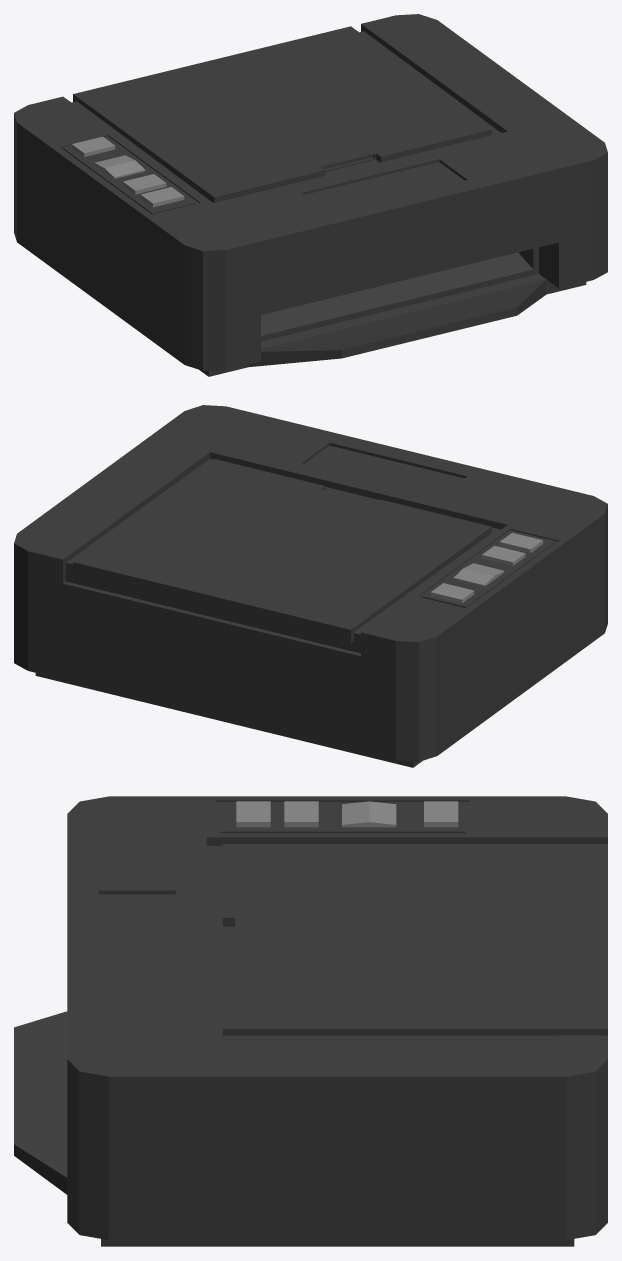
The model's file is PrinterV1.fbx.
3 views of the same model, one above another, from view 1: azimuth 30°, elevation 25°; view 2: azimuth 150°, elevation 25°; view 3: azimuth 270°, elevation 25° (orthographic). The views are drawn at different scales.
Parts seen in each view (by area): view 1: PrinterV1, PrinterV1_Top; view 2: PrinterV1, PrinterV1_Top; view 3: PrinterV1, PrinterV1_Top.
Part boxes in pixels (bbox=[...]): PrinterV1: bbox=[14, 14, 607, 376]; PrinterV1_Top: bbox=[73, 26, 491, 202]; PrinterV1: bbox=[14, 405, 607, 767]; PrinterV1_Top: bbox=[73, 459, 491, 643]; PrinterV1: bbox=[14, 796, 607, 1246]; PrinterV1_Top: bbox=[222, 844, 607, 1035].
Size of the model in its own units: 64 by 20.16 by 57.35.
